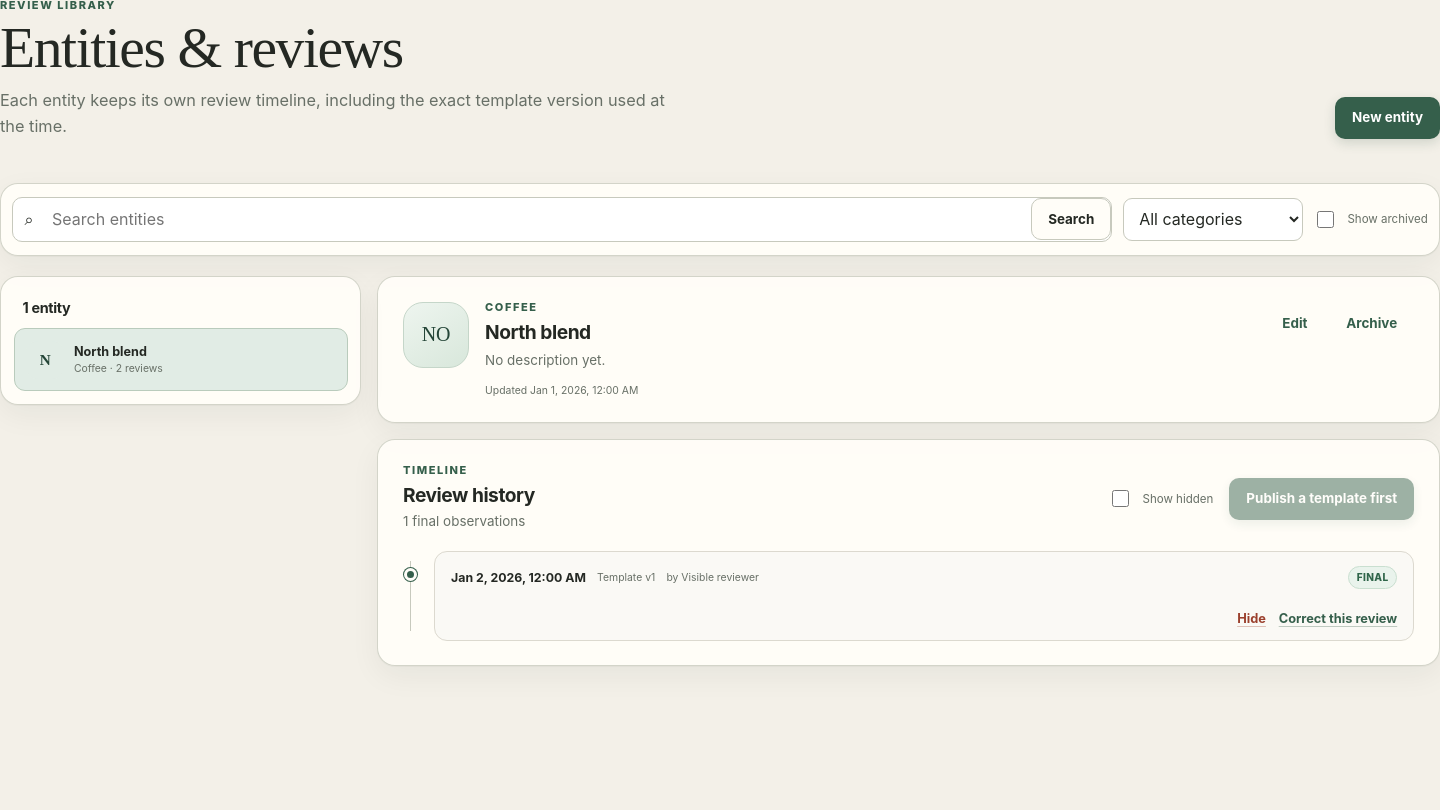
Scenario: review visibility › confirms hiding a final review and removes it from normal history
Click the button "Hide" at (1252, 618), box [1237,611,1266,626]
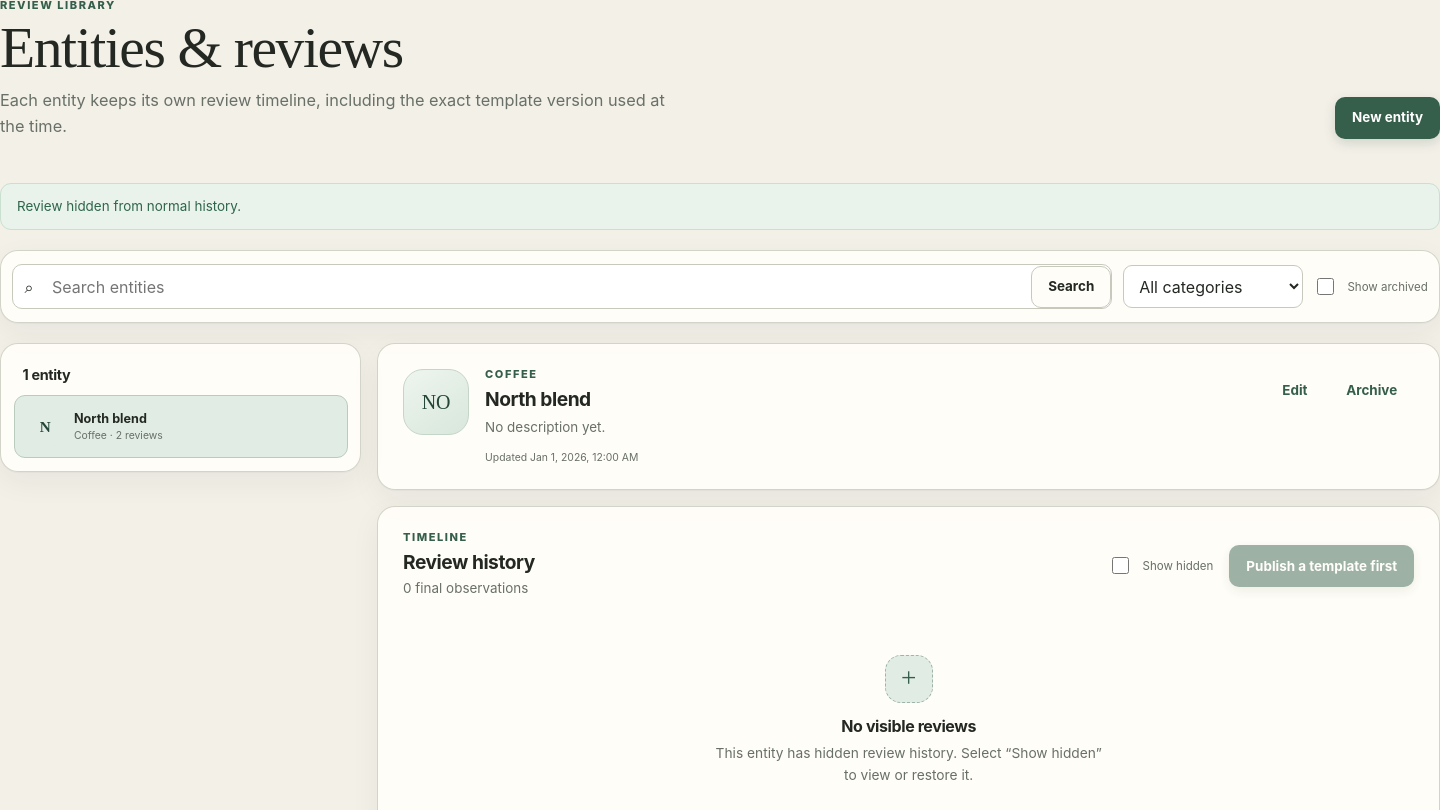
Expected: the text "by Visible reviewer" is gone
Expected: the text "Review hidden from normal history." is shown, [0,183,1439,230]
